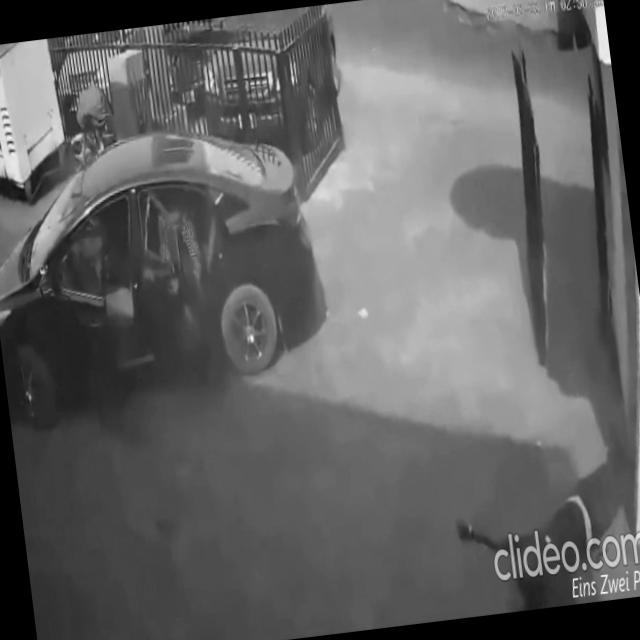gun: (178, 253, 206, 314)
person: (446, 430, 640, 617)
person with a gun: (150, 190, 225, 390)
